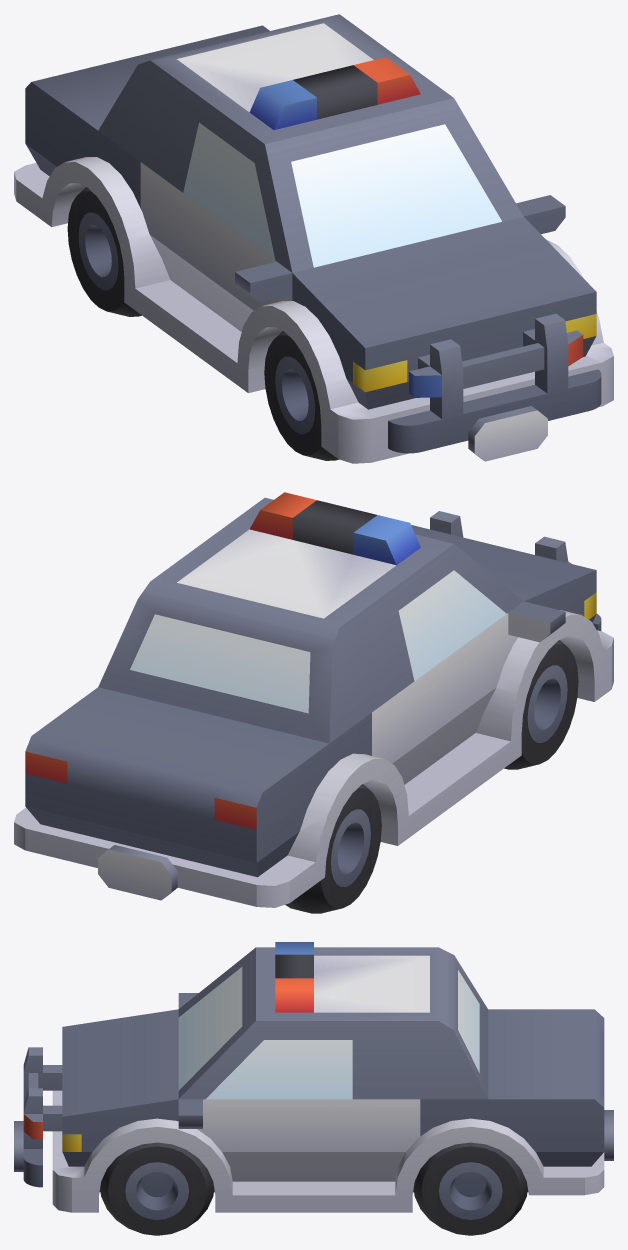
The picture shows the model from 3 angles, top to bottom: view 1: azimuth 30°, elevation 25°; view 2: azimuth 150°, elevation 25°; view 3: azimuth 270°, elevation 25°; orthographic projection. The views are drawn at different scales.
Parts seen in each view (by area): view 1: body, grill, wheel-front-right, wheel-back-right; view 2: body, wheel-back-right, wheel-front-right, grill; view 3: body, wheel-front-left, wheel-back-left, grill.
Boxes of the visible parts, x1,y1,x2,y2 form: body: (14,14,613,463); grill: (388,313,601,461); wheel-front-right: (264,331,339,460); wheel-back-right: (67,187,141,316); body: (14,492,613,907); wheel-back-right: (285,784,381,913); wheel-front-right: (504,640,578,769); grill: (430,511,601,630); body: (52,942,613,1212); wheel-front-left: (100,1142,214,1235); wheel-back-left: (413,1142,527,1235); grill: (14,1047,62,1187).
Size of the model in its own units: 1.5 by 1.3 by 3.1.
1 material, 1 textured.
